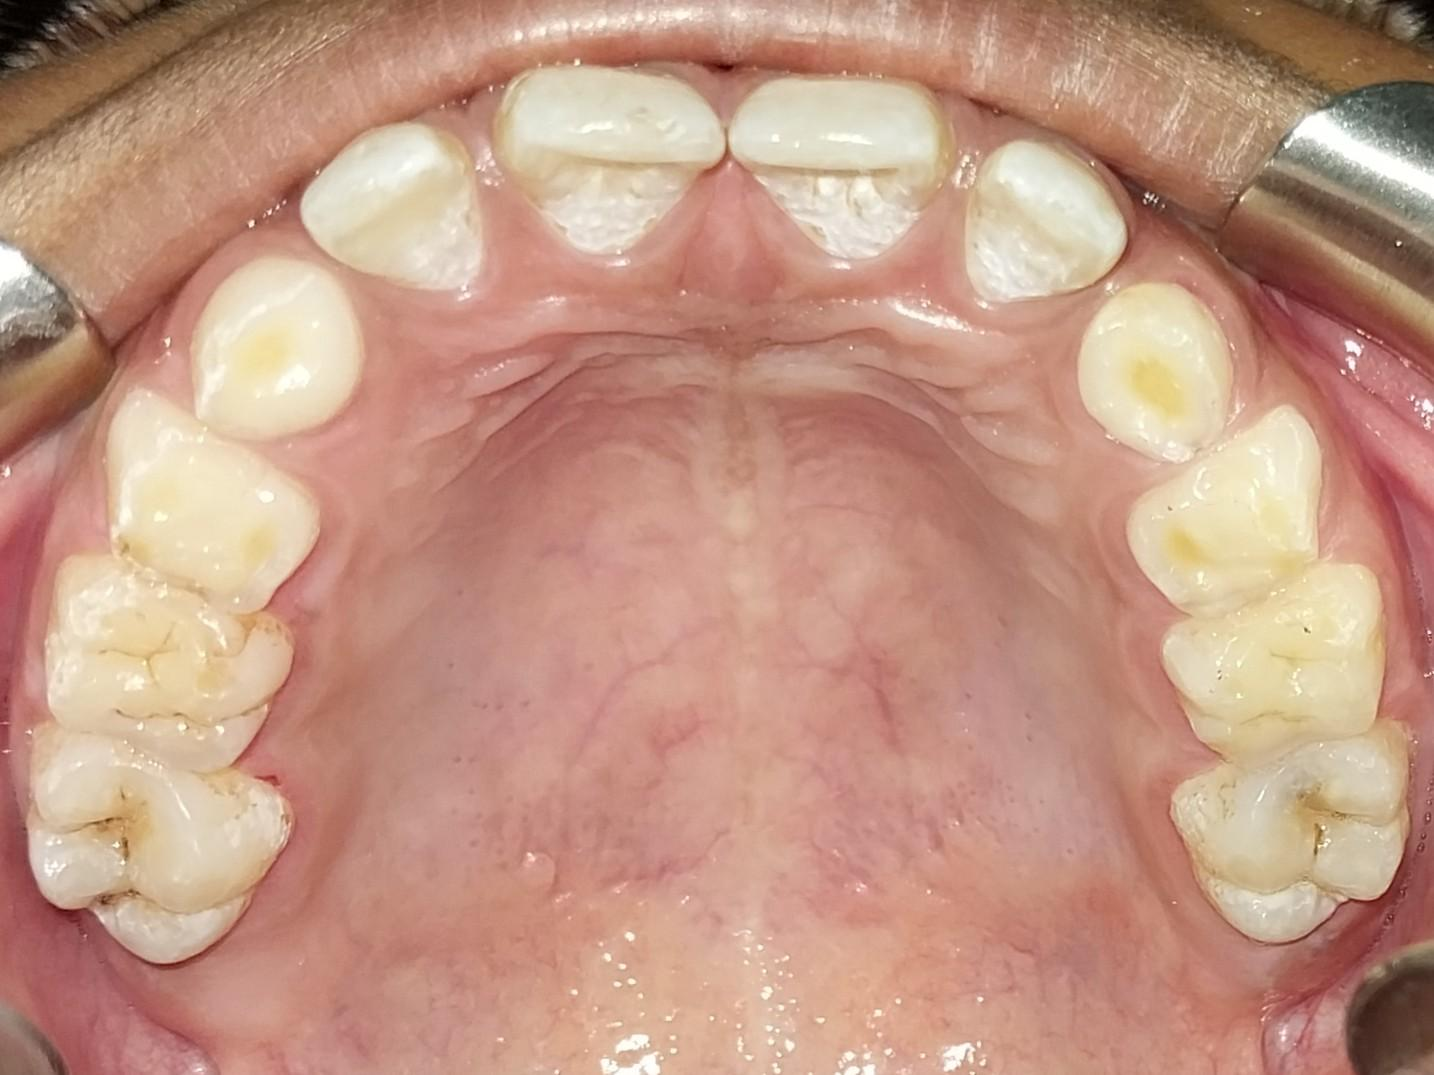D: (26, 739, 291, 964), (1169, 757, 1411, 944)
d: (47, 564, 275, 764)
